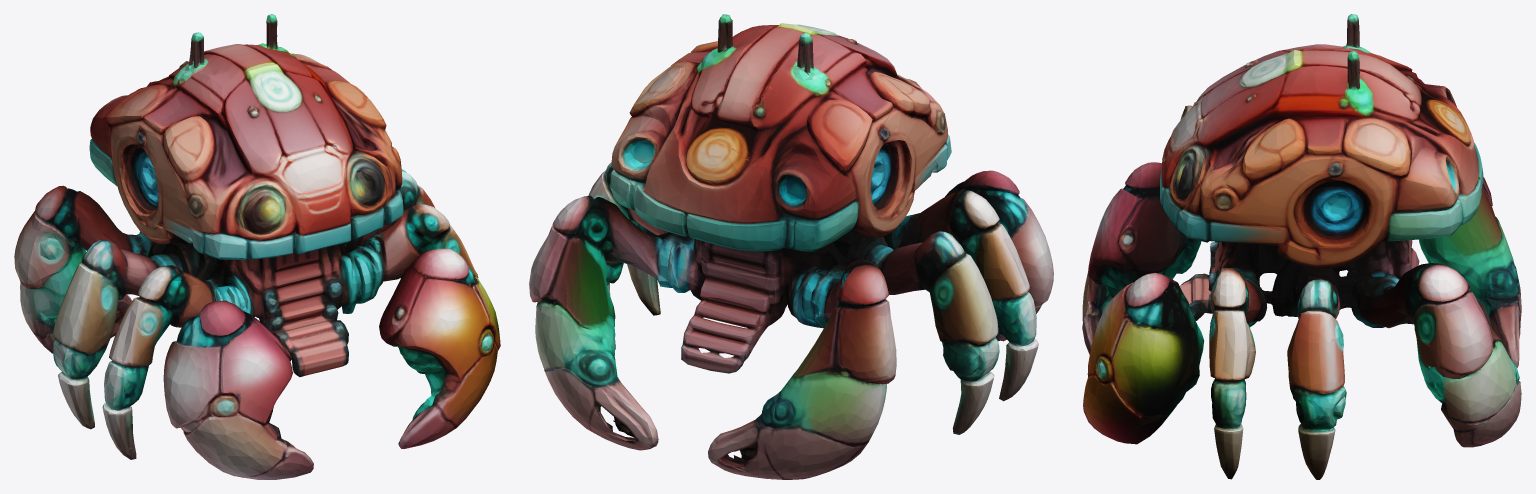
Rendered from crab_2.glb.
The picture shows the model from 3 angles, left to right: view 1: azimuth 30°, elevation 25°; view 2: azimuth 150°, elevation 25°; view 3: azimuth 270°, elevation 25°; orthographic projection. The views are drawn at different scales.
Parts seen in each view (by area): view 1: world; view 2: world; view 3: world.
Boxes of the visible parts, x1,y1,x2,y2 form: world: [14, 14, 500, 479]; world: [529, 14, 1053, 479]; world: [1082, 14, 1521, 479].
Size of the model in its own units: 0.907 by 0.7971 by 0.8654.
1 material, 1 textured.
